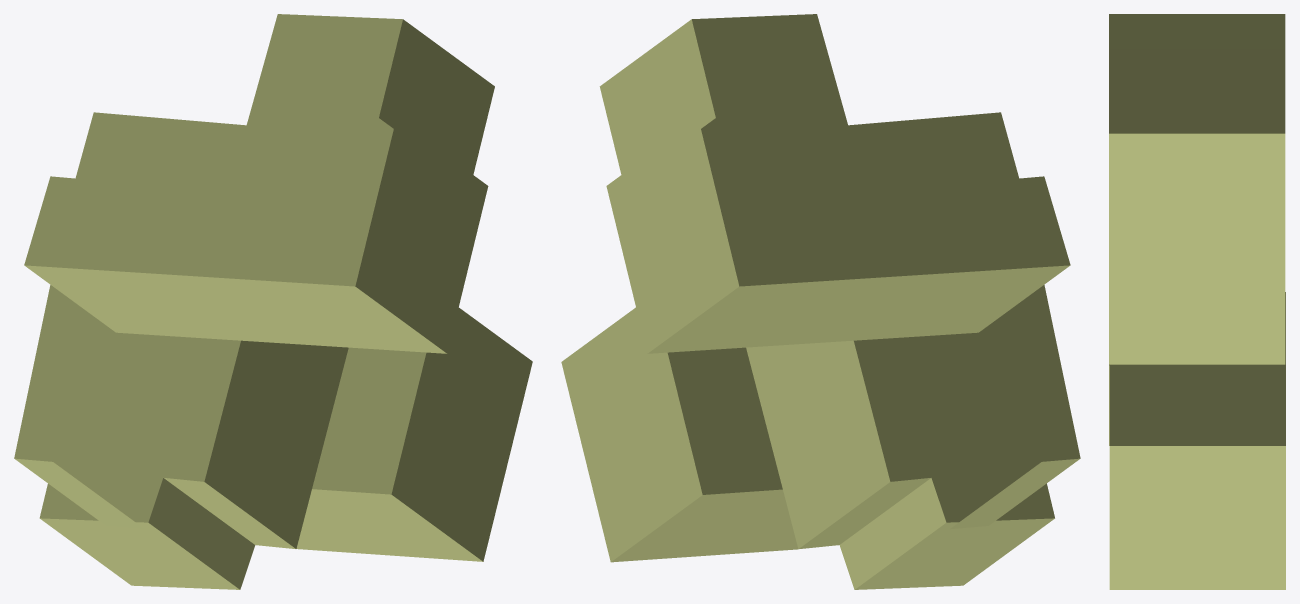
3 renders of one model, left to right at view 1: azimuth 30°, elevation 25°; view 2: azimuth 150°, elevation 25°; view 3: azimuth 270°, elevation 25°, orthographic. The views are drawn at different scales.
Visible parts, largest first — view 1: 0_1_0_0_1_3_1_1_0_2; view 2: 0_1_0_0_1_3_1_1_0_2; view 3: 0_1_0_0_1_3_1_1_0_2.
Part boxes in pixels (x1,y1,x2,y2): 0_1_0_0_1_3_1_1_0_2: (14, 14, 532, 589); 0_1_0_0_1_3_1_1_0_2: (561, 14, 1080, 589); 0_1_0_0_1_3_1_1_0_2: (1109, 14, 1285, 589).
Bounding box in the file's own units: 24.12 × 27.46 × 9.03.
